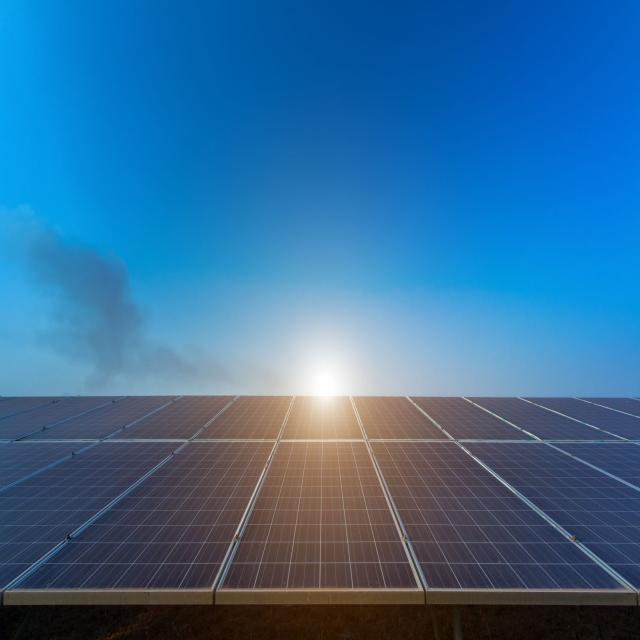clean-solar-panel: (1, 396, 640, 606)
